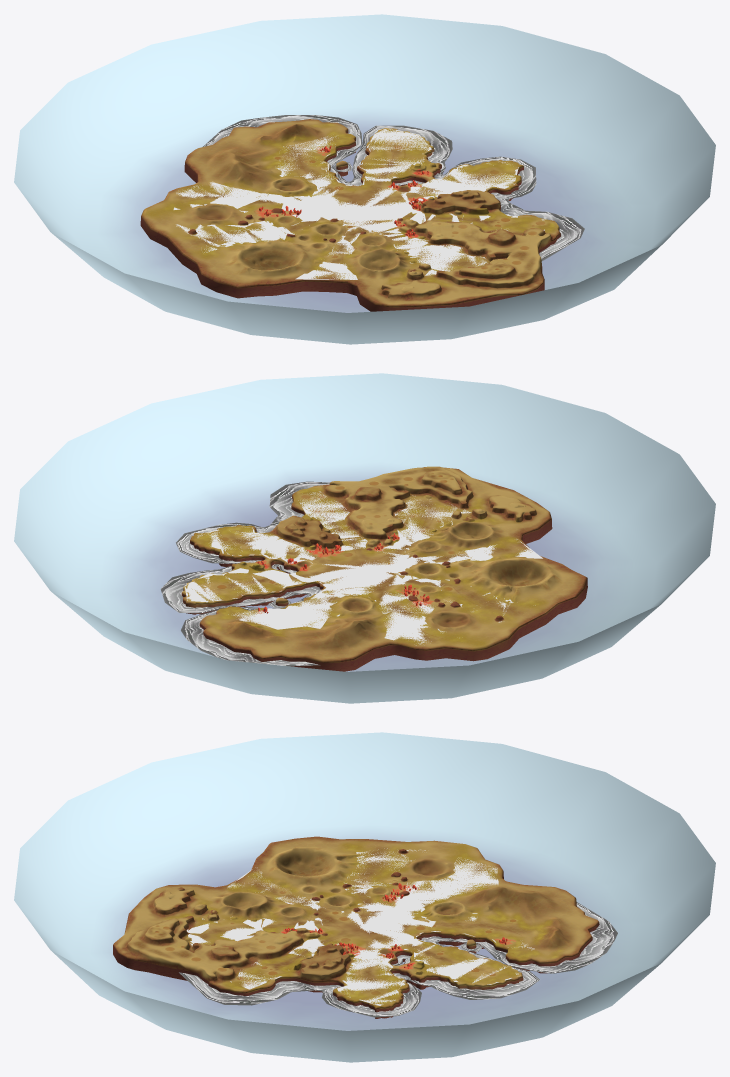
The model's file is Terrain.fbx.
3 views of the same model, one above another, from view 1: azimuth 30°, elevation 25°; view 2: azimuth 150°, elevation 25°; view 3: azimuth 270°, elevation 25° (orthographic).
Parts seen in each view (by area): view 1: sea, floor, floorcollide, wave; view 2: sea, floor, floorcollide, wave; view 3: sea, floor, floorcollide, wave.
Part boxes in pixels (<box>): sea: <box>14,14,715,344</box>; floor: <box>140,119,560,311</box>; floorcollide: <box>173,128,545,279</box>; wave: <box>203,115,584,261</box>; sea: <box>14,373,715,703</box>; floor: <box>181,466,587,671</box>; floorcollide: <box>184,491,542,645</box>; wave: <box>160,481,329,666</box>; sea: <box>14,732,715,1062</box>; floor: <box>113,836,599,1018</box>; floorcollide: <box>186,848,534,1005</box>; wave: <box>179,902,617,1017</box>.
Bounding box in the file's own units: 281 × 25 × 279.
4 materials, 3 textured.
